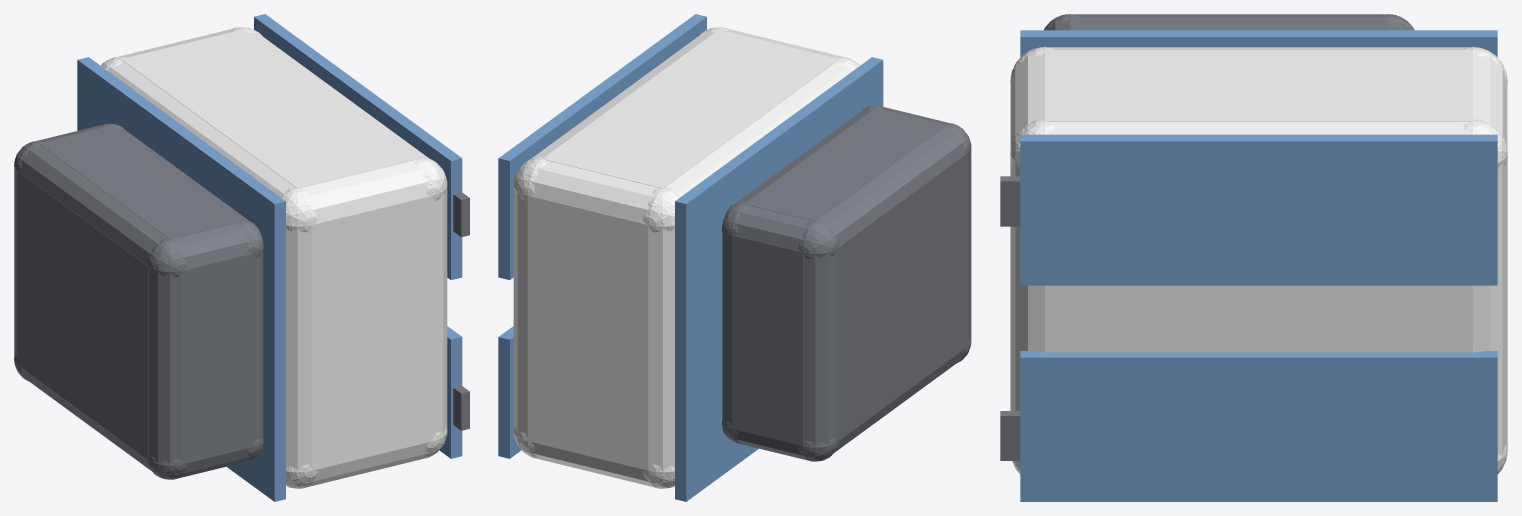
Rendered from torso.glb.
3 renders of one model, left to right at view 1: azimuth 30°, elevation 25°; view 2: azimuth 150°, elevation 25°; view 3: azimuth 270°, elevation 25°, orthographic. The views are drawn at different scales.
Parts seen in each view (by area): view 1: torso_z_visual, backpack_x_visual, torso_y_visual, vest_back_visual, backpack_z_visual, backpack_y_visual, backpack_edge5_visual, torso_edge5_visual, vest_left_visual, backpack_edge9_visual, torso_edge3_visual, torso_edge9_visual (+12 smaller); view 2: torso_z_visual, backpack_x_visual, vest_back_visual, torso_y_visual, backpack_z_visual, backpack_y_visual, backpack_edge4_visual, vest_left_visual, torso_edge4_visual, backpack_edge9_visual, torso_edge2_visual, torso_edge9_visual (+10 smaller); view 3: vest_left_visual, vest_right_visual, torso_y_visual, torso_x_visual, vest_back_visual, torso_edge11_visual, torso_edge6_visual, backpack_y_visual, torso_edge7_visual, torso_edge3_visual, torso_edge2_visual, torso_edge9_visual (+4 smaller).
Part boxes in pixels (box(x1,y1,x2,y2)): torso_z_visual: box(312, 195, 432, 470); backpack_x_visual: box(17, 171, 148, 459); torso_y_visual: box(121, 29, 418, 188); vest_back_visual: box(77, 57, 285, 501); backpack_z_visual: box(182, 253, 253, 464); backpack_y_visual: box(39, 126, 240, 239); backpack_edge5_visual: box(148, 238, 183, 479); torso_edge5_visual: box(280, 187, 312, 488); vest_left_visual: box(254, 14, 462, 279); backpack_edge9_visual: box(14, 141, 187, 276); torso_edge3_visual: box(281, 158, 447, 231); torso_edge9_visual: box(102, 57, 317, 232); torso_z_visual: box(527, 195, 648, 470); backpack_x_visual: box(836, 153, 968, 441); vest_back_visual: box(675, 57, 883, 501); torso_y_visual: box(542, 30, 839, 188); backpack_z_visual: box(732, 235, 803, 445); backpack_y_visual: box(745, 108, 946, 221); backpack_edge4_visual: box(802, 220, 836, 461); vest_left_visual: box(498, 14, 706, 279); torso_edge4_visual: box(647, 187, 680, 488); backpack_edge9_visual: box(798, 123, 971, 258); torso_edge2_visual: box(513, 158, 679, 231); torso_edge9_visual: box(643, 57, 858, 232); vest_left_visual: box(1020, 134, 1497, 285); vest_right_visual: box(1020, 351, 1497, 501); torso_y_visual: box(1045, 50, 1472, 121); torso_x_visual: box(1045, 285, 1472, 352); vest_back_visual: box(1020, 30, 1497, 57); torso_edge11_visual: box(1010, 121, 1507, 167); torso_edge6_visual: box(1463, 119, 1507, 473); backpack_y_visual: box(1070, 16, 1388, 30); torso_edge7_visual: box(1010, 119, 1053, 473); torso_edge3_visual: box(1010, 47, 1047, 168); torso_edge2_visual: box(1470, 47, 1507, 168); torso_edge9_visual: box(1010, 47, 1507, 82).
Bounding box in the file's own units: 0.412 × 0.4 × 0.51.
